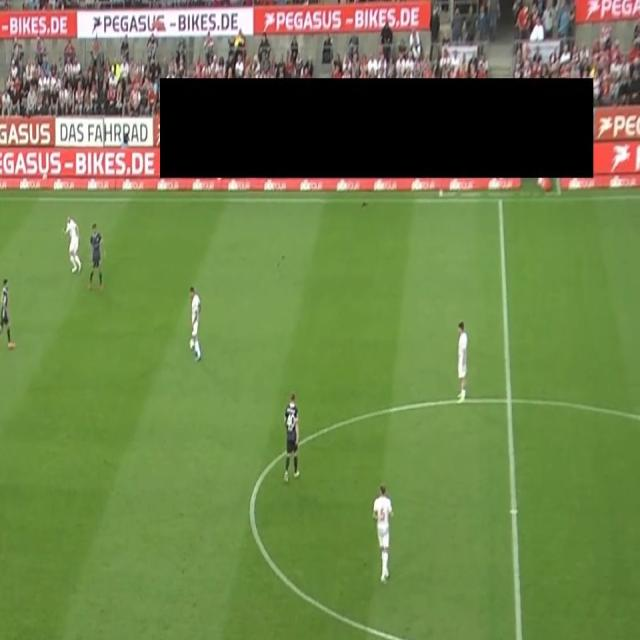ball: (188, 336, 196, 350)
